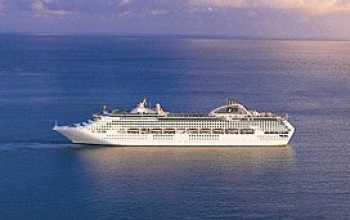youlun: (49, 97, 305, 148)
